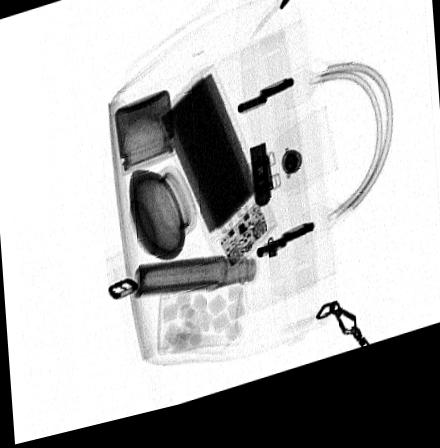Powerbank: (152, 77, 278, 287)
